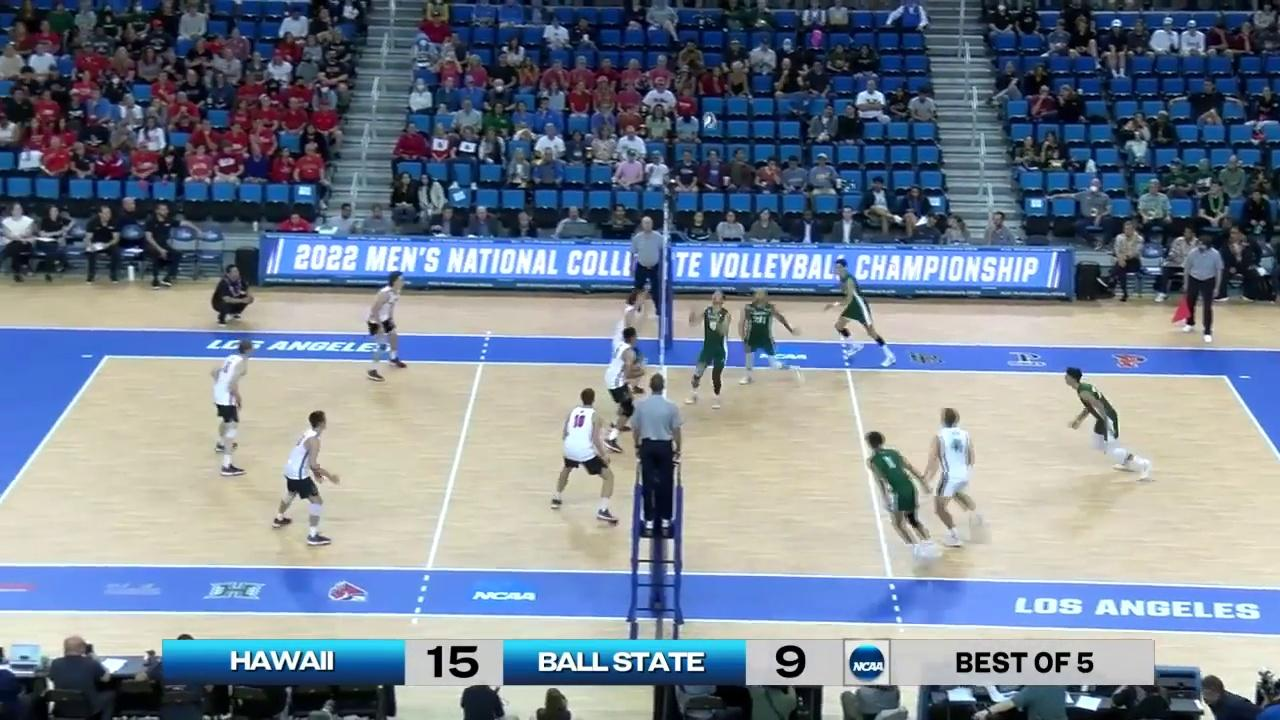player: (1064, 367, 1154, 482), (546, 390, 621, 526), (861, 433, 936, 564), (272, 411, 340, 548), (932, 408, 984, 550), (833, 258, 895, 366), (735, 287, 805, 382), (603, 328, 647, 450), (213, 342, 253, 475), (686, 290, 730, 409), (363, 271, 408, 381), (611, 292, 646, 397)
refree: (634, 375, 681, 538), (1178, 239, 1222, 341), (628, 216, 667, 324)
